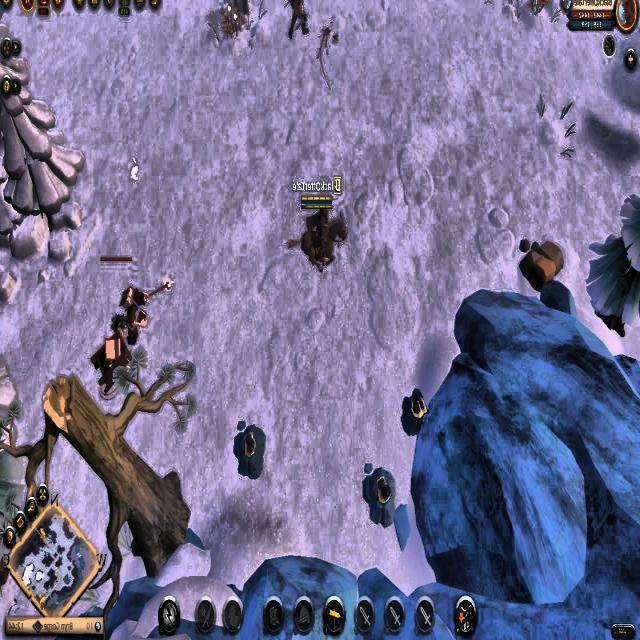copperore: (360, 468, 401, 524), (231, 422, 270, 477), (400, 385, 430, 438)
limestone: (520, 237, 568, 293)
